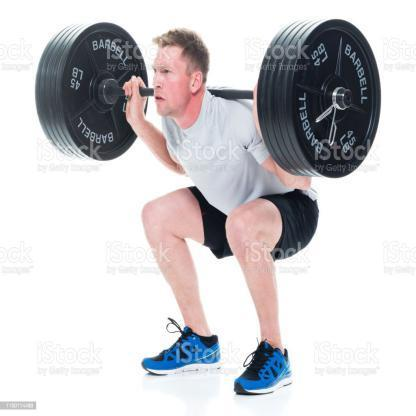barbell: (33, 16, 383, 180)
